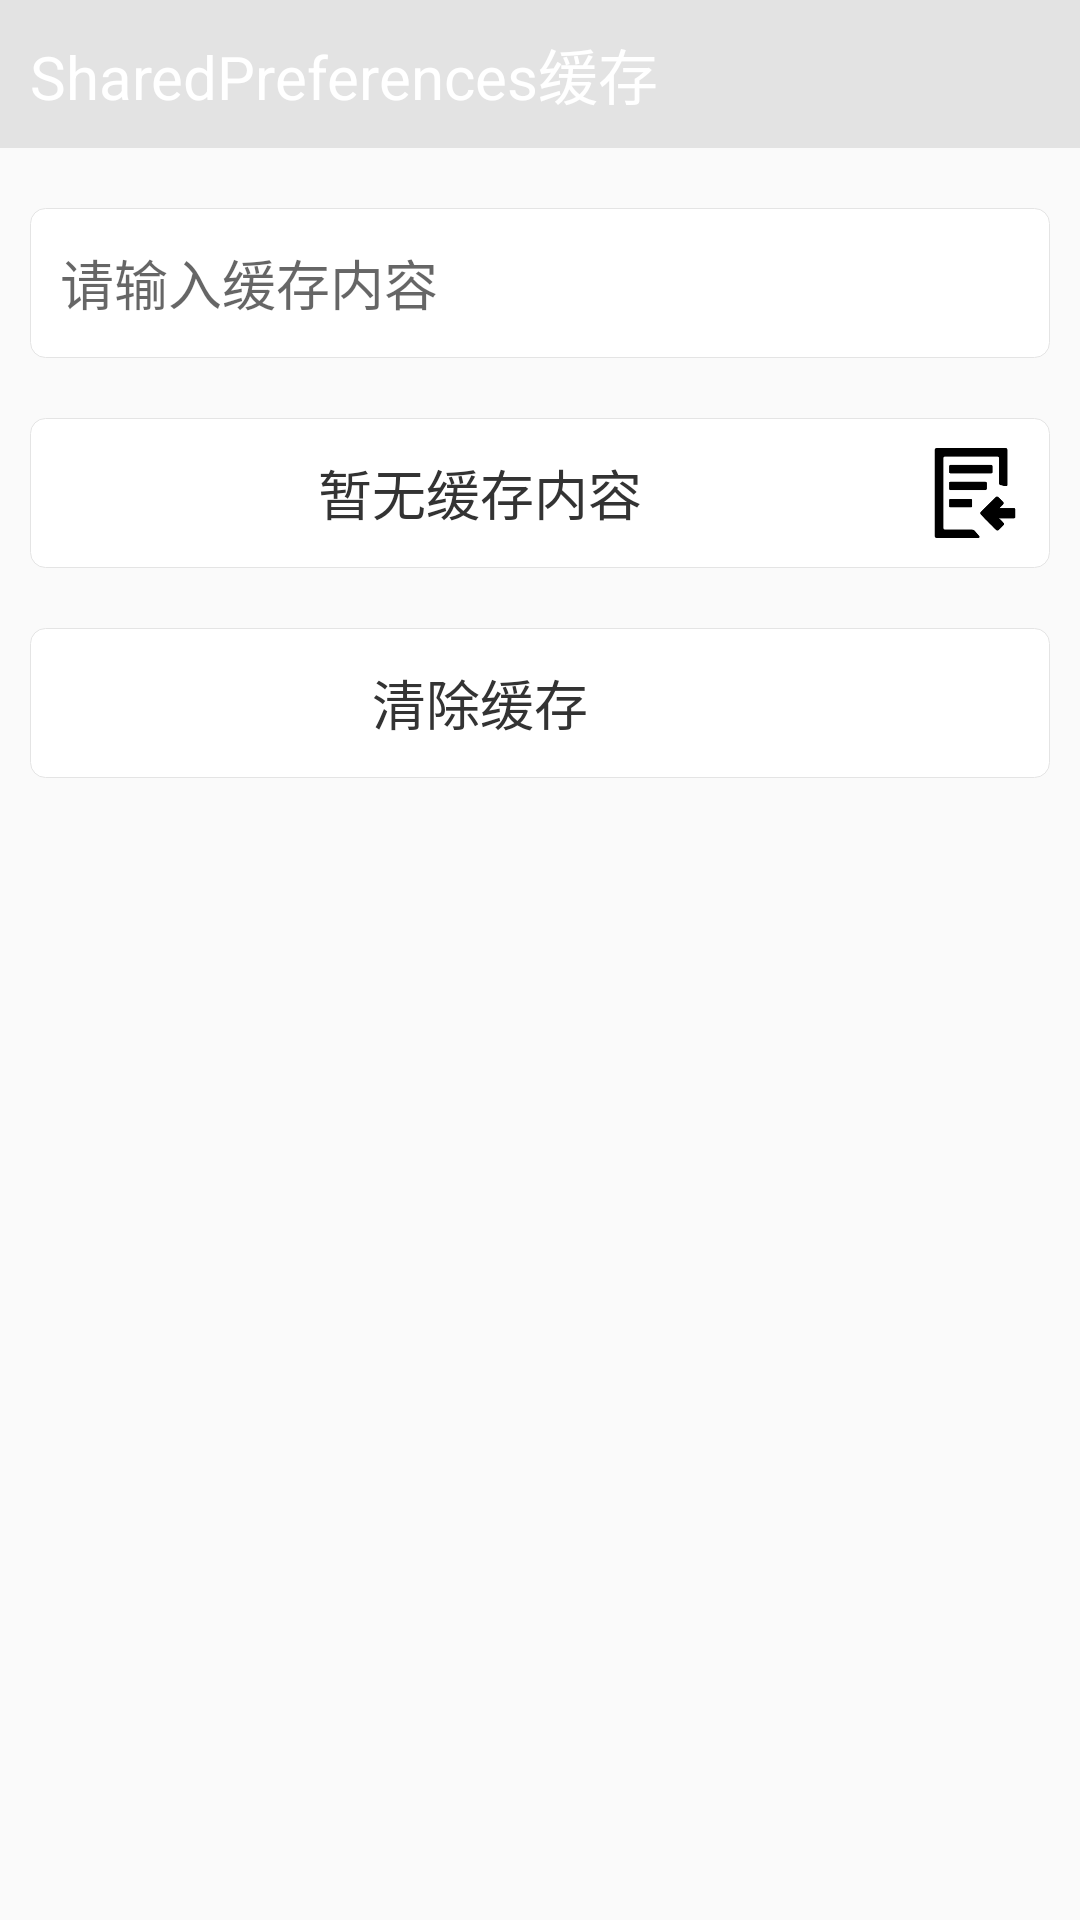

Locate icon controls on the screen. Image size 1080×1920, boxes as BBox(x1, y1, x2, y2).
get: BBox(934, 448, 1016, 538)
